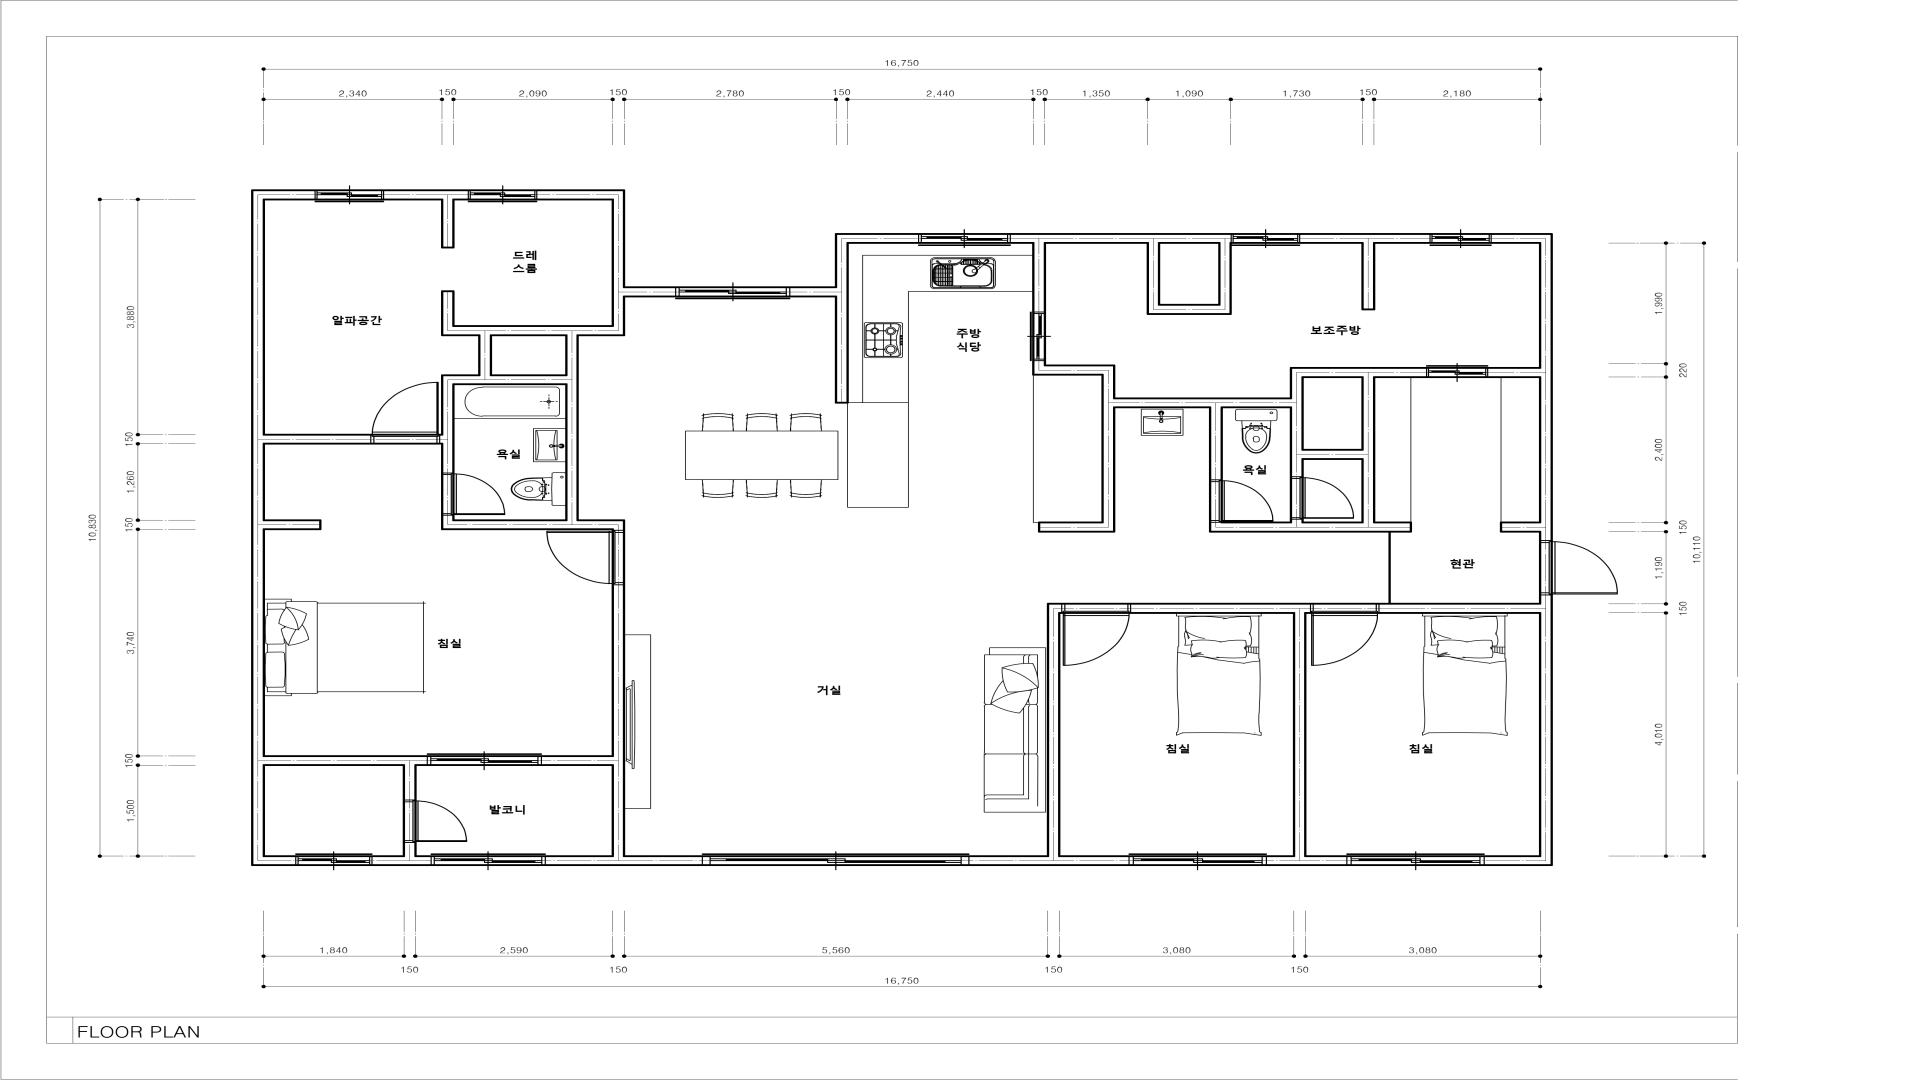background: (1, 0, 1920, 1080)
door: (1062, 603, 1131, 666), (1309, 603, 1379, 666), (546, 530, 625, 585), (371, 382, 440, 444), (1539, 541, 1618, 595), (402, 799, 468, 843), (442, 472, 506, 516), (1209, 480, 1274, 522), (1290, 477, 1353, 520), (1427, 365, 1487, 378), (1030, 311, 1046, 361)
wall: (251, 200, 265, 856), (1539, 244, 1553, 541), (1539, 596, 1553, 856), (1047, 603, 1062, 856), (612, 585, 625, 856), (1292, 613, 1305, 856), (1209, 520, 1412, 533), (566, 336, 579, 520), (1010, 233, 1230, 244), (1131, 603, 1311, 615), (1101, 376, 1116, 522), (835, 244, 848, 404), (1361, 378, 1375, 522), (1116, 397, 1290, 409), (442, 326, 625, 336), (454, 520, 625, 530), (265, 756, 427, 766), (1379, 603, 1539, 613), (969, 856, 1129, 866), (612, 200, 625, 326), (546, 856, 702, 866), (1290, 367, 1425, 378), (440, 375, 455, 472), (1300, 233, 1429, 244), (1290, 378, 1303, 476), (455, 375, 566, 385), (265, 434, 371, 444), (1146, 303, 1232, 315), (1361, 244, 1375, 310), (1209, 409, 1222, 480), (537, 190, 625, 200), (384, 190, 468, 200), (1033, 244, 1046, 311), (835, 233, 918, 244), (1266, 856, 1346, 866), (1046, 364, 1116, 376), (1038, 522, 1116, 533), (1147, 244, 1160, 305), (1218, 244, 1232, 303), (542, 756, 612, 766), (1485, 856, 1552, 866), (440, 200, 455, 249), (1303, 448, 1361, 460), (251, 190, 315, 200), (1491, 233, 1553, 244), (372, 856, 431, 866), (1487, 367, 1539, 378), (265, 520, 322, 530), (477, 336, 492, 375), (251, 855, 295, 866), (790, 286, 835, 298), (625, 286, 675, 297), (440, 290, 455, 326), (402, 766, 417, 800), (1499, 522, 1539, 533), (440, 516, 455, 530), (402, 843, 417, 856), (1033, 361, 1046, 376)
window: (702, 853, 969, 866), (1129, 853, 1267, 866), (1346, 853, 1485, 866), (431, 853, 546, 866), (675, 286, 790, 299), (427, 753, 542, 766), (918, 233, 1010, 247), (295, 853, 372, 866), (1232, 233, 1300, 247), (468, 190, 538, 202), (315, 190, 384, 202), (1429, 233, 1491, 245)
